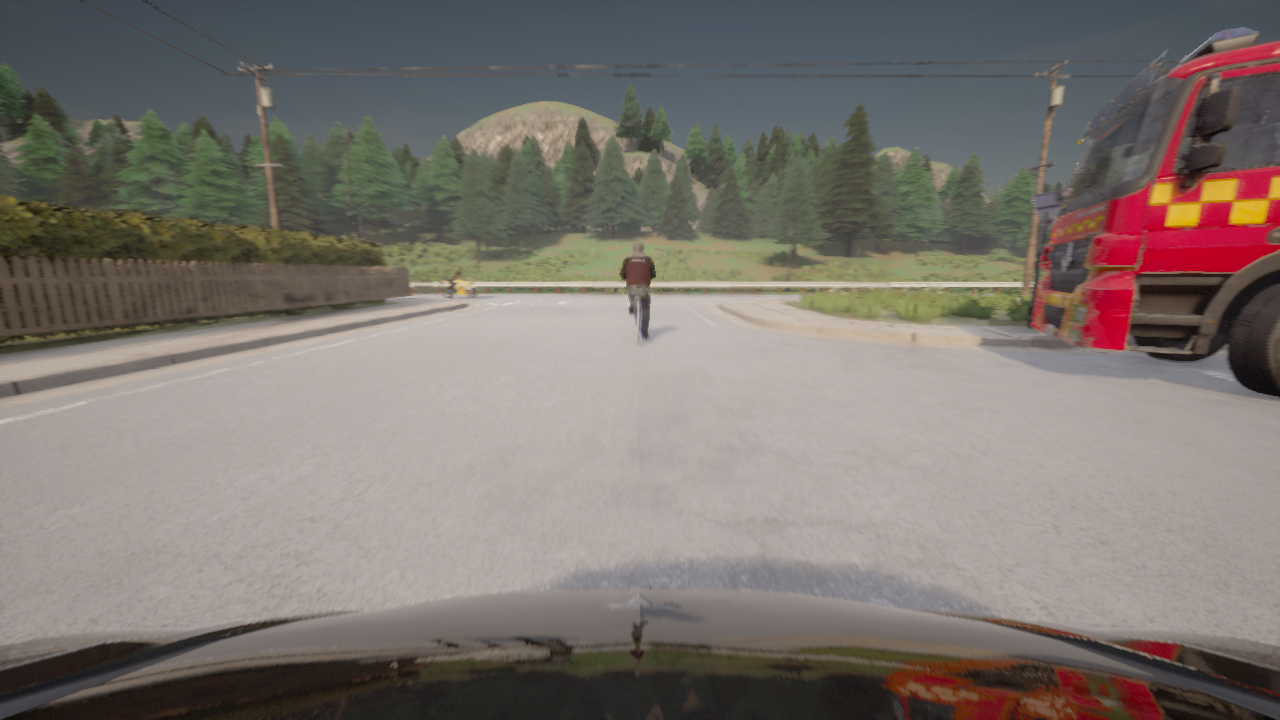cyclist: (0, 588, 1279, 719), (1033, 26, 1279, 397), (440, 274, 477, 298), (631, 296, 647, 344)
